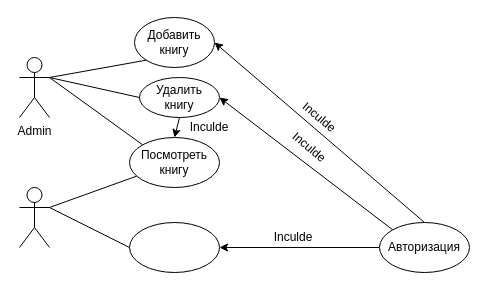
Some shapes in this 487 by 290 pixel diagram are drawn without their labels. The shapes that lost their labels are listed below. From the top down, each one's centre as x and y in pixels, then its label:
(x=34, y=217): User
(x=174, y=247): Купить книгу
